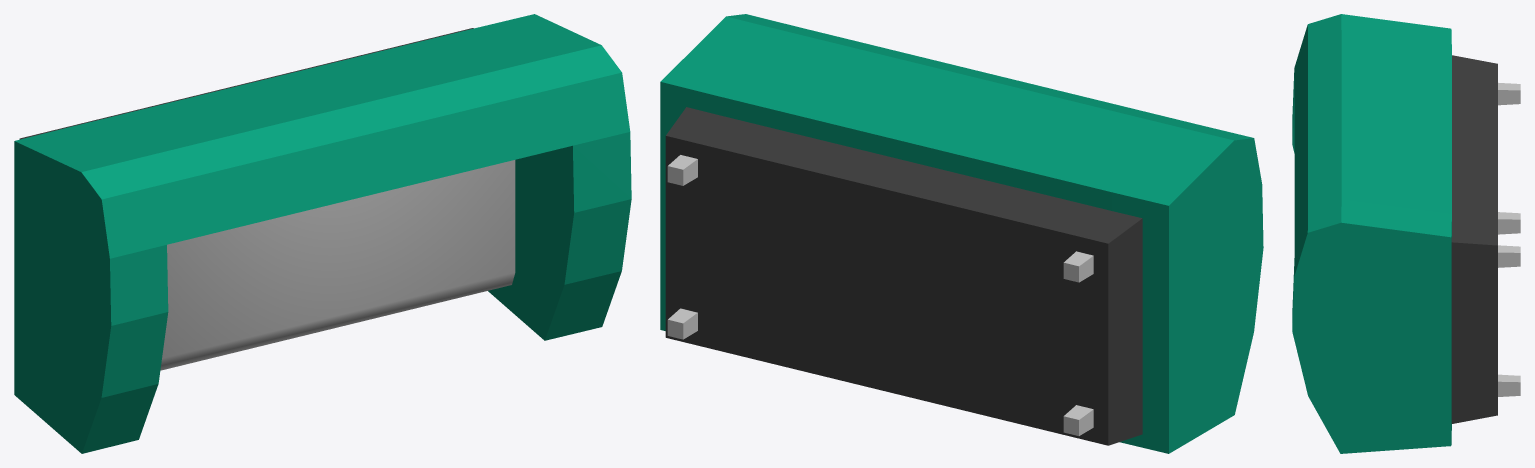
File: Sofa_3.obj
3 views of the same model, side by side, from view 1: azimuth 30°, elevation 25°; view 2: azimuth 150°, elevation 25°; view 3: azimuth 270°, elevation 25° (orthographic). The views are drawn at different scales.
Parts seen in each view (by area): view 1: Sofa_3; view 2: Sofa_3; view 3: Sofa_3.
Boxes of the visible parts, x1=… form: Sofa_3: x1=14, y1=14, x2=631, y2=453; Sofa_3: x1=660, y1=14, x2=1263, y2=453; Sofa_3: x1=1292, y1=14, x2=1520, y2=453.
Bounding box in the file's own units: 1.8 × 0.9284 × 0.8318.
